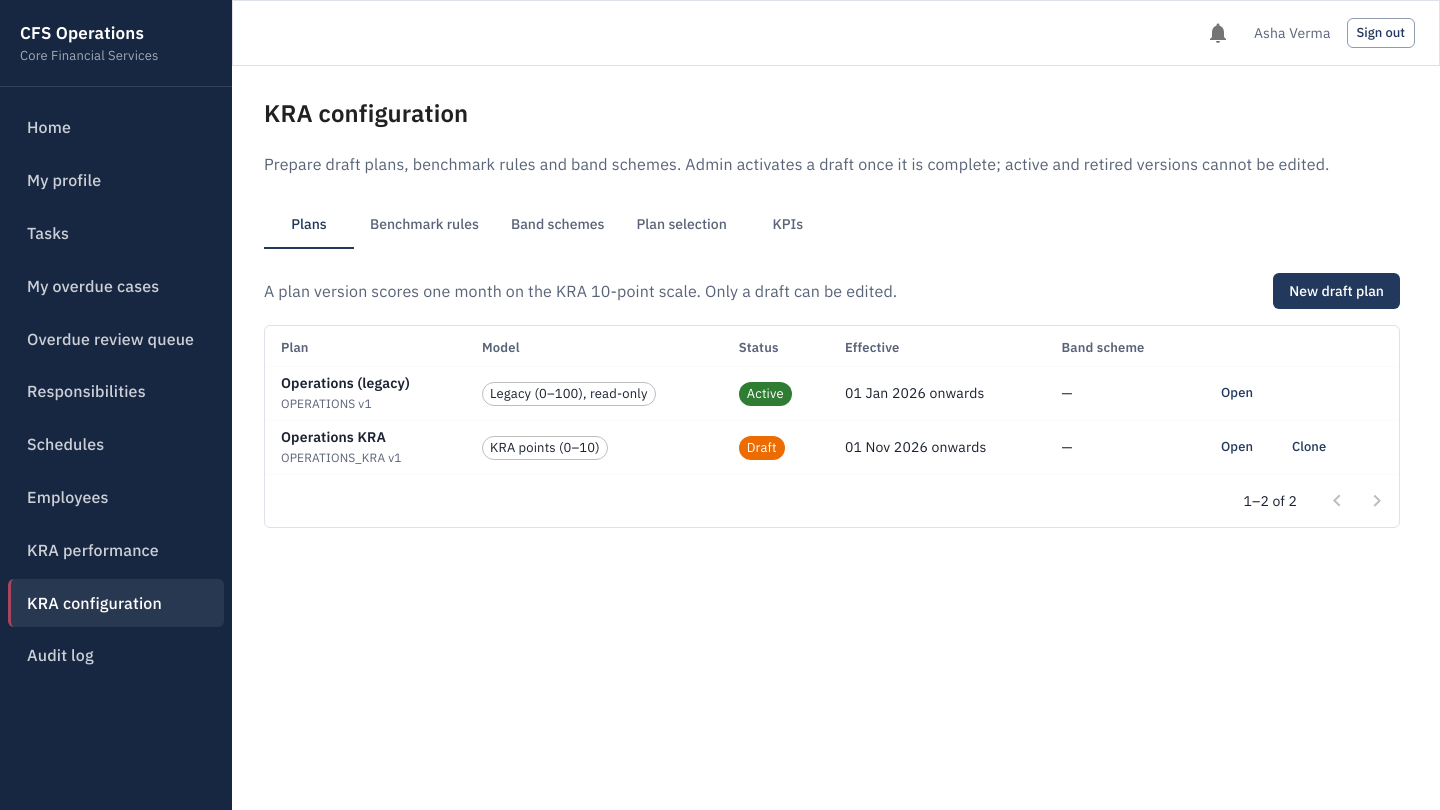
Test: KRA configuration: access and plan list (Phase 7.5A) › clones a KRA version after confirmation and opens the new draft
Click the button with aria-label "Clone Operations KRA (OPERATIONS_KRA v1)" at x=1309, y=448, box [1277,432,1341,463]
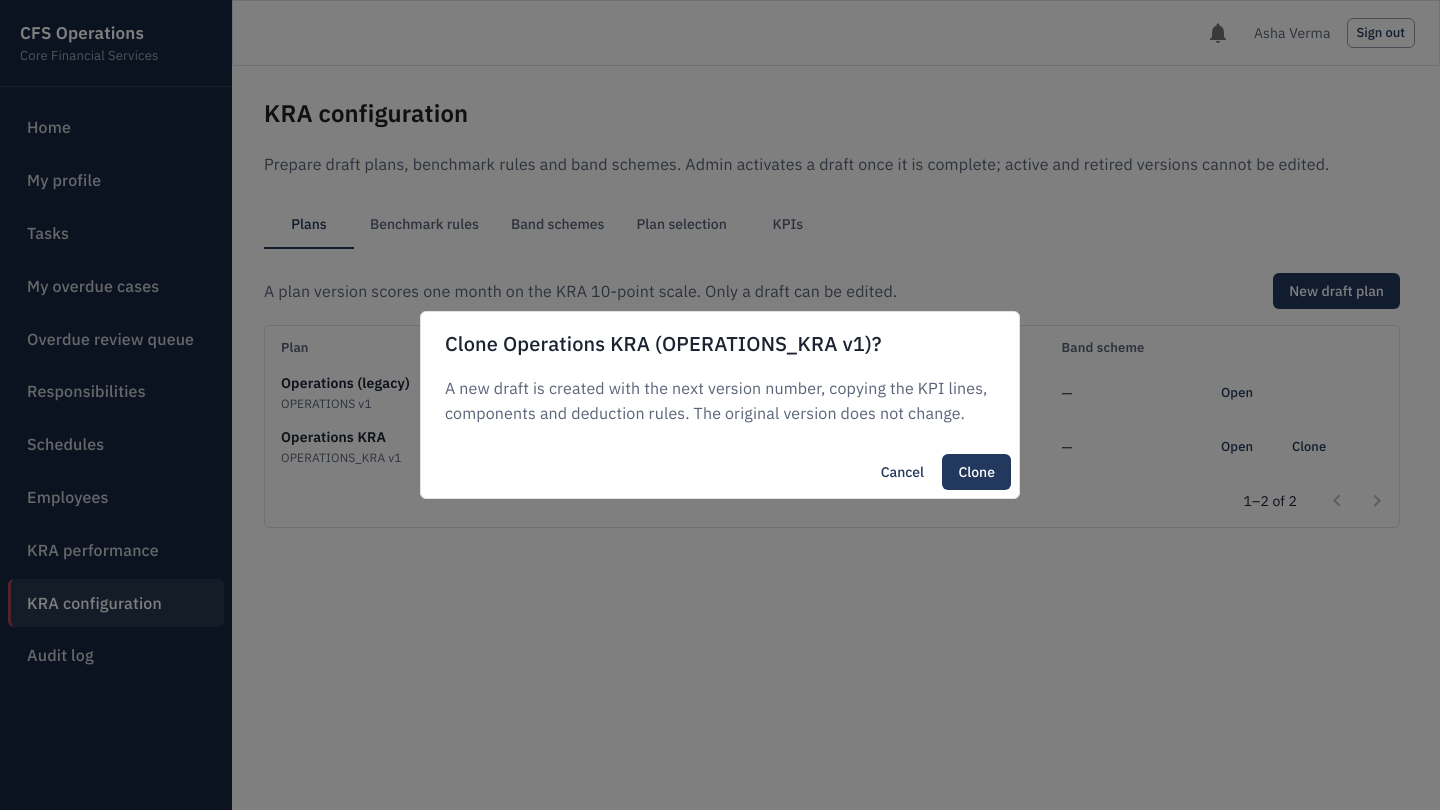
Expected: the text "original version does not change" is shown, [445,378,988,423]
Click the button "Clone" at x=977, y=472, box [942,454,1011,490]
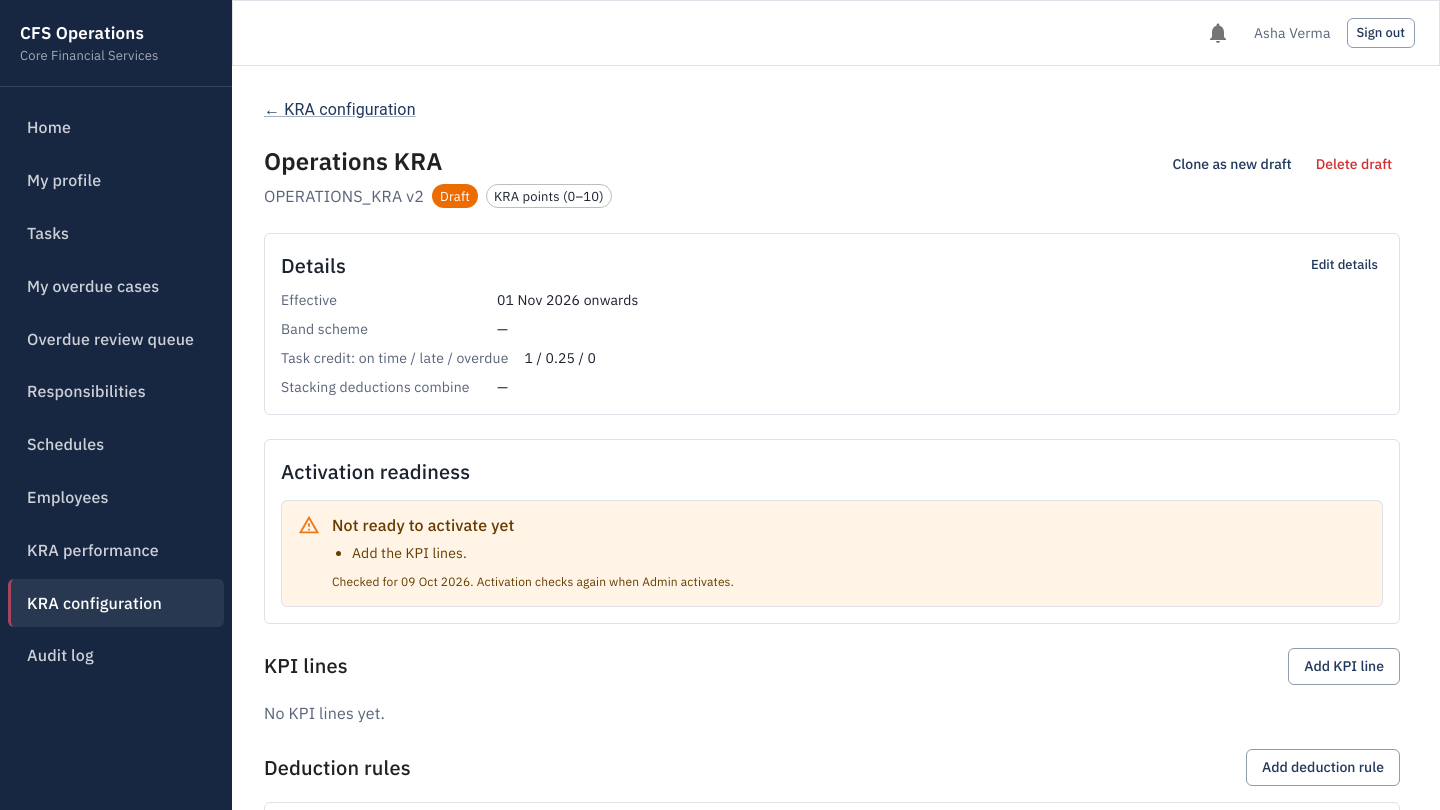
Expected: the text "OPERATIONS_KRA v2" is shown, [264,184,424,209]
